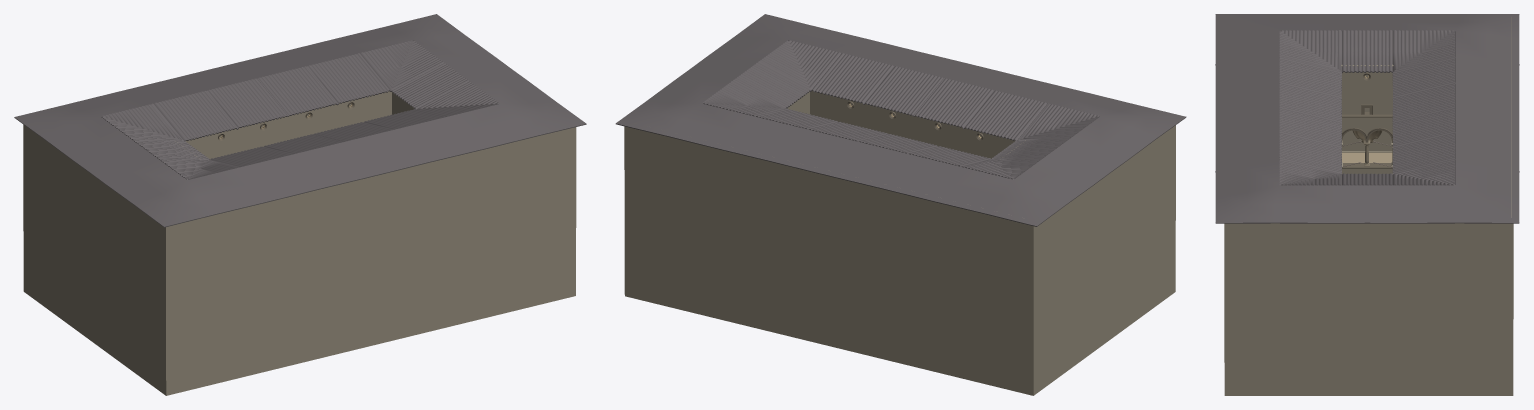
Rendered from sponza.glb.
3 views of the same model, side by side, from view 1: azimuth 30°, elevation 25°; view 2: azimuth 150°, elevation 25°; view 3: azimuth 270°, elevation 25° (orthographic).
Parts seen in each view (by area): view 1: sponza; view 2: sponza; view 3: sponza.
Boxes of the visible parts, x1=… form: sponza: x1=14, y1=14, x2=586, y2=395; sponza: x1=615, y1=14, x2=1186, y2=395; sponza: x1=1215, y1=14, x2=1519, y2=395.
Size of the model in its own units: 29.77 by 12.45 by 18.31.
